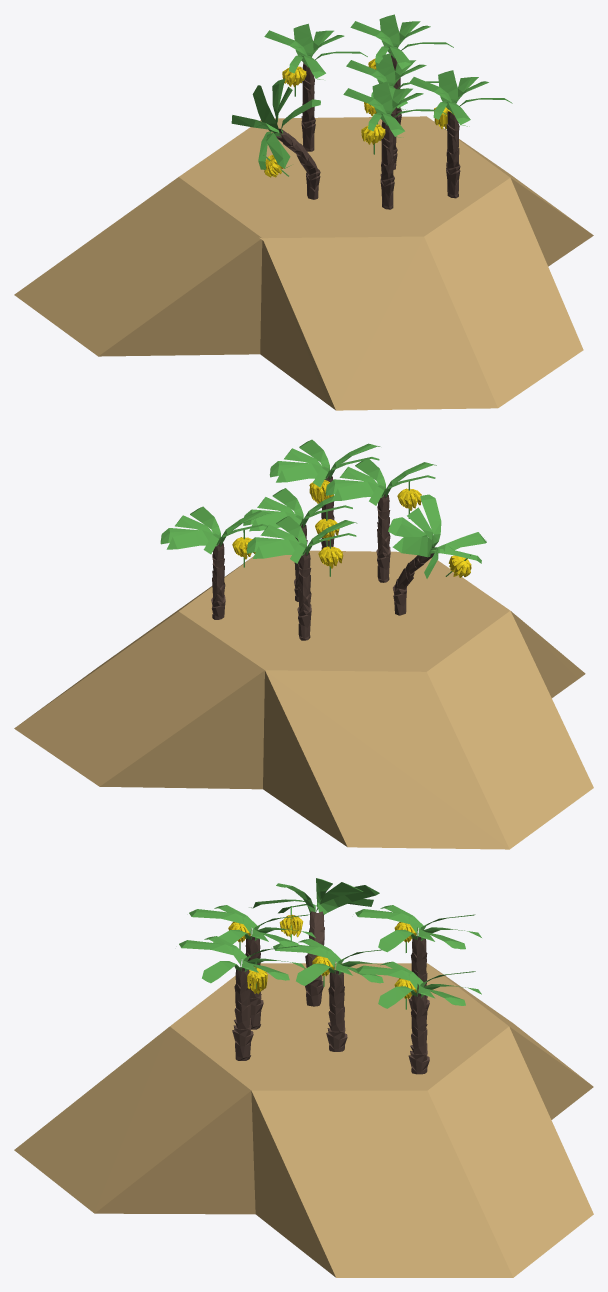
Rendered from insel4.fbx.
3 renders of one model, top to bottom at view 1: azimuth 30°, elevation 25°; view 2: azimuth 150°, elevation 25°; view 3: azimuth 270°, elevation 25°, orthographic. The views are drawn at different scales.
Parts seen in each view (by area): view 1: landschaft, Blätter_8, Blätter_6, Blätter_10, Blätter_12, Blätter_4, Blätter, Stamm_12, Stamm_10, Stamm_8, Stamm_6; view 2: landschaft, Blätter_8, Blätter_12, Blätter_6, Blätter_10, Blätter_4, Blätter, Stamm_6, Stamm_10, Stamm_4, Stamm_8; view 3: landschaft, Blätter_8, Blätter_6, Blätter_12, Blätter_4, Blätter, Blätter_10, Stamm_12, Stamm_4, Stamm, Stamm_8, Stamm_6 (+1 smaller).
Boxes of the visible parts, left/top/right/bottom form: landschaft: left=14, top=116, right=593, bottom=410; Blätter_8: left=231, top=78, right=320, bottom=169; Blätter_6: left=264, top=23, right=367, bottom=79; Blätter_10: left=343, top=81, right=446, bottom=137; Blätter_12: left=409, top=70, right=512, bottom=126; Blätter_4: left=350, top=14, right=453, bottom=70; Blätter: left=346, top=53, right=438, bottom=109; Stamm_12: left=446, top=108, right=460, bottom=198; Stamm_10: left=380, top=120, right=394, bottom=209; Stamm_8: left=276, top=128, right=320, bottom=199; Stamm_6: left=301, top=61, right=315, bottom=151; landschaft: left=14, top=550, right=593, bottom=849; Blätter_8: left=388, top=494, right=486, bottom=578; Blätter_12: left=269, top=439, right=380, bottom=487; Blätter_6: left=246, top=516, right=357, bottom=563; Blätter_10: left=325, top=458, right=436, bottom=505; Blätter_4: left=160, top=506, right=270, bottom=554; Blätter: left=243, top=488, right=352, bottom=533; Stamm_6: left=297, top=551, right=311, bottom=640; Stamm_10: left=376, top=494, right=390, bottom=582; Stamm_4: left=211, top=542, right=225, bottom=619; Stamm_8: left=393, top=547, right=434, bottom=615; landschaft: left=14, top=963, right=593, bottom=1277; Blätter_8: left=249, top=878, right=379, bottom=914; Blätter_6: left=355, top=905, right=481, bottom=952; Blätter_12: left=179, top=936, right=305, bottom=983; Blätter_4: left=355, top=961, right=481, bottom=1008; Blätter: left=273, top=939, right=393, bottom=985; Blätter_10: left=189, top=905, right=315, bottom=949; Stamm_12: left=232, top=967, right=253, bottom=1060; Stamm_4: left=408, top=992, right=429, bottom=1074; Stamm: left=326, top=970, right=347, bottom=1051; Stamm_8: left=305, top=911, right=324, bottom=1006; Stamm_6: left=408, top=936, right=429, bottom=1026.
Size of the model in its own units: 7498 by 3301 by 7220.
Materials: 4 (3 with a texture image).
